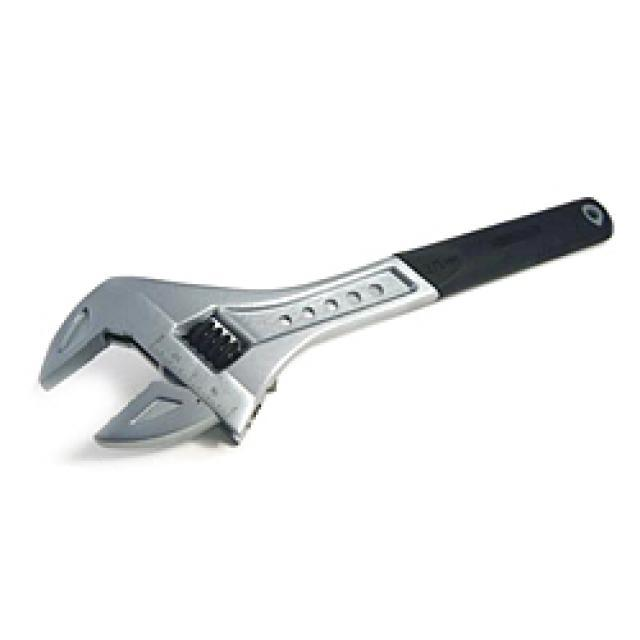wrench: (18, 191, 612, 468)
